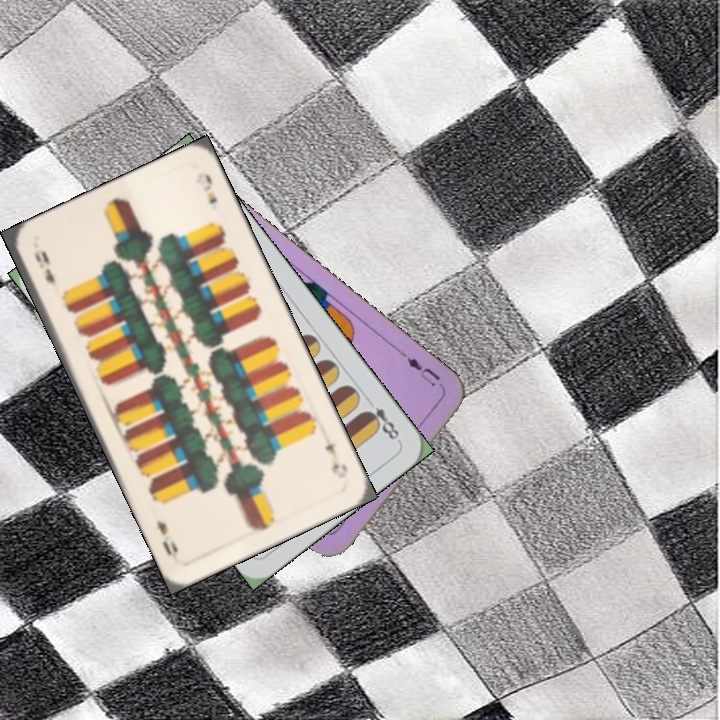E8: (360, 393, 403, 444)
E9: (320, 439, 350, 481), (30, 246, 58, 286)
EU: (397, 348, 447, 391)
